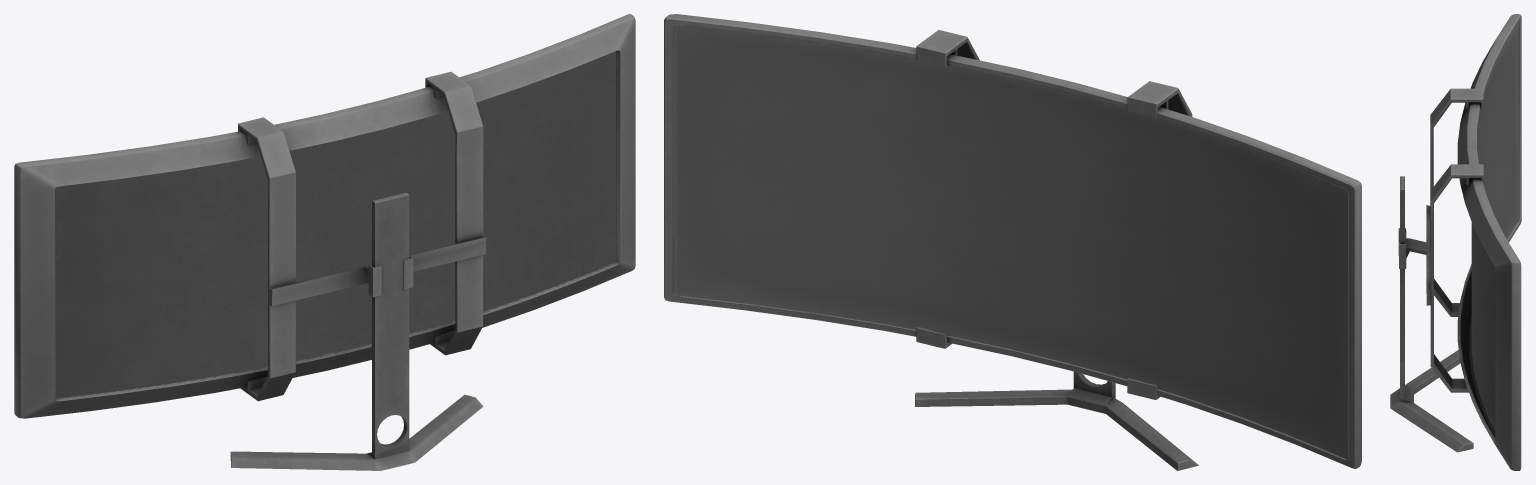
File: Tv 60 Inch 2.FBX
3 renders of one model, left to right at view 1: azimuth 30°, elevation 25°; view 2: azimuth 150°, elevation 25°; view 3: azimuth 270°, elevation 25°, orthographic. The views are drawn at different scales.
Visible parts, largest first — view 1: TV 60 inch 2 (×3); view 2: TV 60 inch 2 (×4); view 3: TV 60 inch 2 (×4).
Boxes of the visible parts, x1,y1,x2,y2 form: TV 60 inch 2 (×3): [14, 14, 635, 470]; TV 60 inch 2 (×4): [664, 14, 1361, 470]; TV 60 inch 2 (×4): [1390, 14, 1521, 470].
Bounding box in the file's own units: 2.22 × 0.4941 × 1.12.
